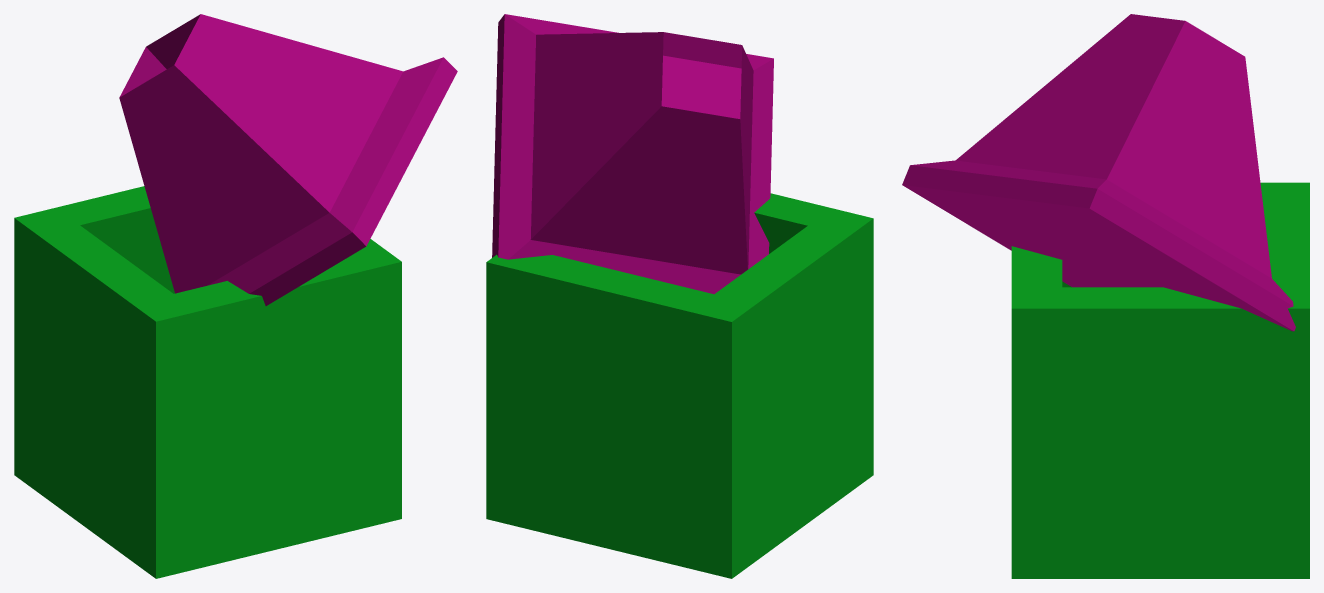
Rendered from AnimatedBox_000131.obj.
The picture shows the model from 3 angles, left to right: view 1: azimuth 30°, elevation 25°; view 2: azimuth 150°, elevation 25°; view 3: azimuth 270°, elevation 25°; orthographic projection. The views are drawn at different scales.
Visible parts, largest first — view 1: Cube, Cube.001; view 2: Cube, Cube.001; view 3: Cube, Cube.001.
Part boxes in pixels (x1,y1,x2,y2): Cube: (14,186,401,578); Cube.001: (119,14,457,305); Cube: (486,193,873,578); Cube.001: (492,14,773,294); Cube: (1011,182,1309,578); Cube.001: (902,14,1295,331).
Bounding box in the file's own units: 2.76 × 3.68 × 2.73.
